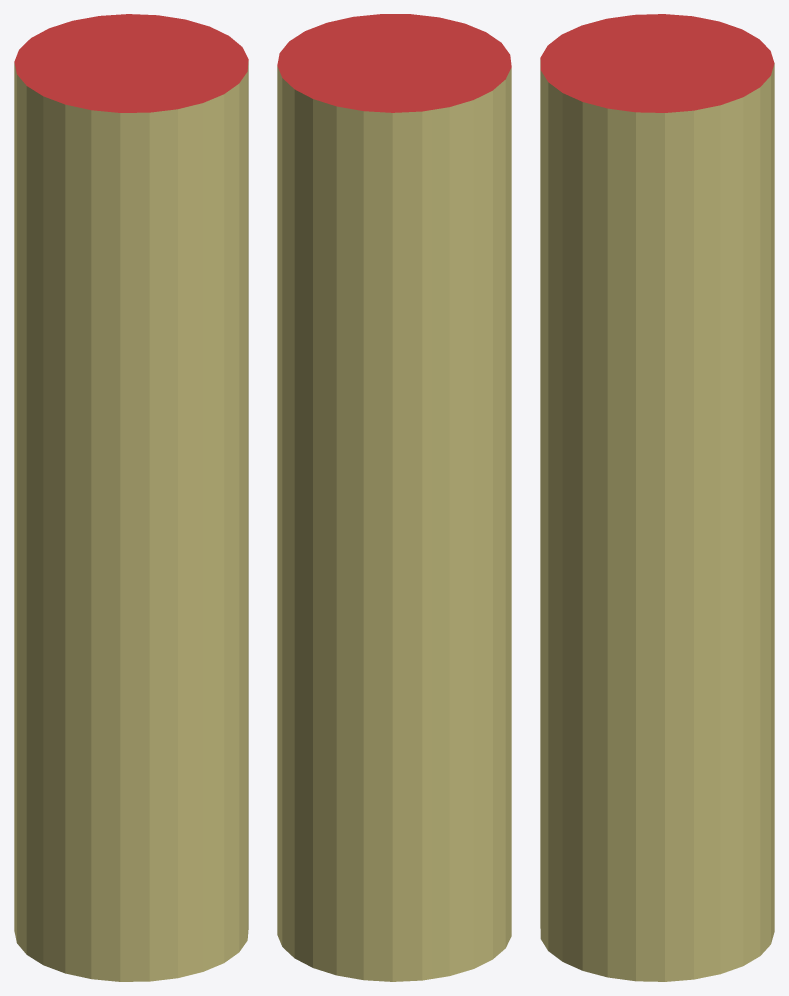
The picture shows the model from 3 angles, left to right: view 1: azimuth 30°, elevation 25°; view 2: azimuth 150°, elevation 25°; view 3: azimuth 270°, elevation 25°; orthographic projection.
Bounding box in the file's own units: 2.72 × 2.71 × 11.11.
